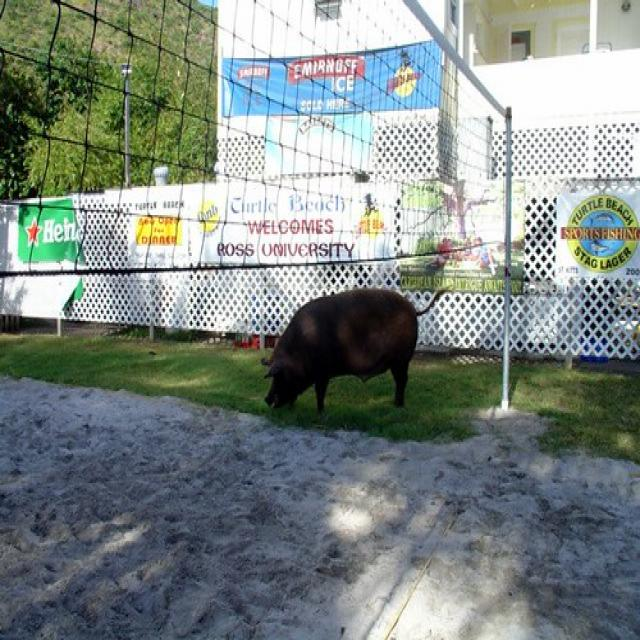boar: (254, 272, 464, 434)
